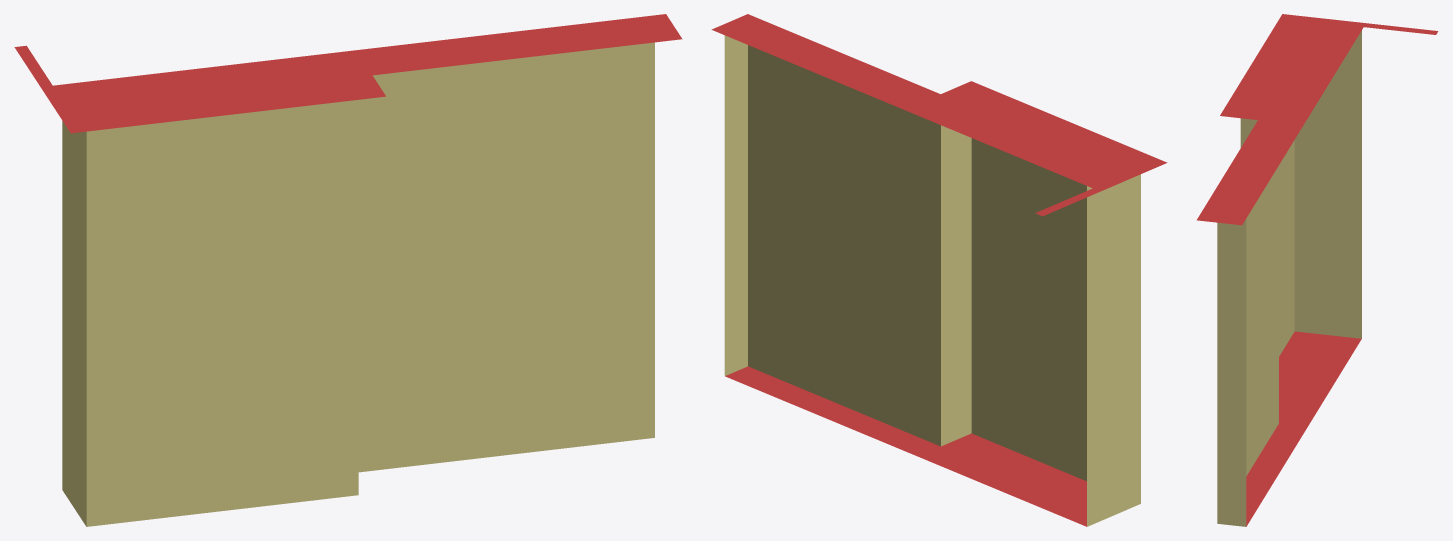
3 views of the same model, side by side, from view 1: azimuth 30°, elevation 25°; view 2: azimuth 150°, elevation 25°; view 3: azimuth 270°, elevation 25° (orthographic). The views are drawn at different scales.
Visible parts, largest first — view 1: group_5, group_3; view 2: group_5, group_3, group_6; view 3: group_5, group_3, group_6.
Boxes of the visible parts, bbox=[...] form: group_5: bbox=[62, 42, 654, 526]; group_3: bbox=[14, 14, 682, 133]; group_5: bbox=[724, 35, 1140, 526]; group_3: bbox=[711, 14, 1167, 216]; group_6: bbox=[725, 366, 1086, 526]; group_5: bbox=[1217, 30, 1361, 526]; group_3: bbox=[1197, 14, 1438, 225]; group_6: bbox=[1246, 331, 1361, 526].
Size of the model in its own units: 14.61 by 7.07 by 9.94.
